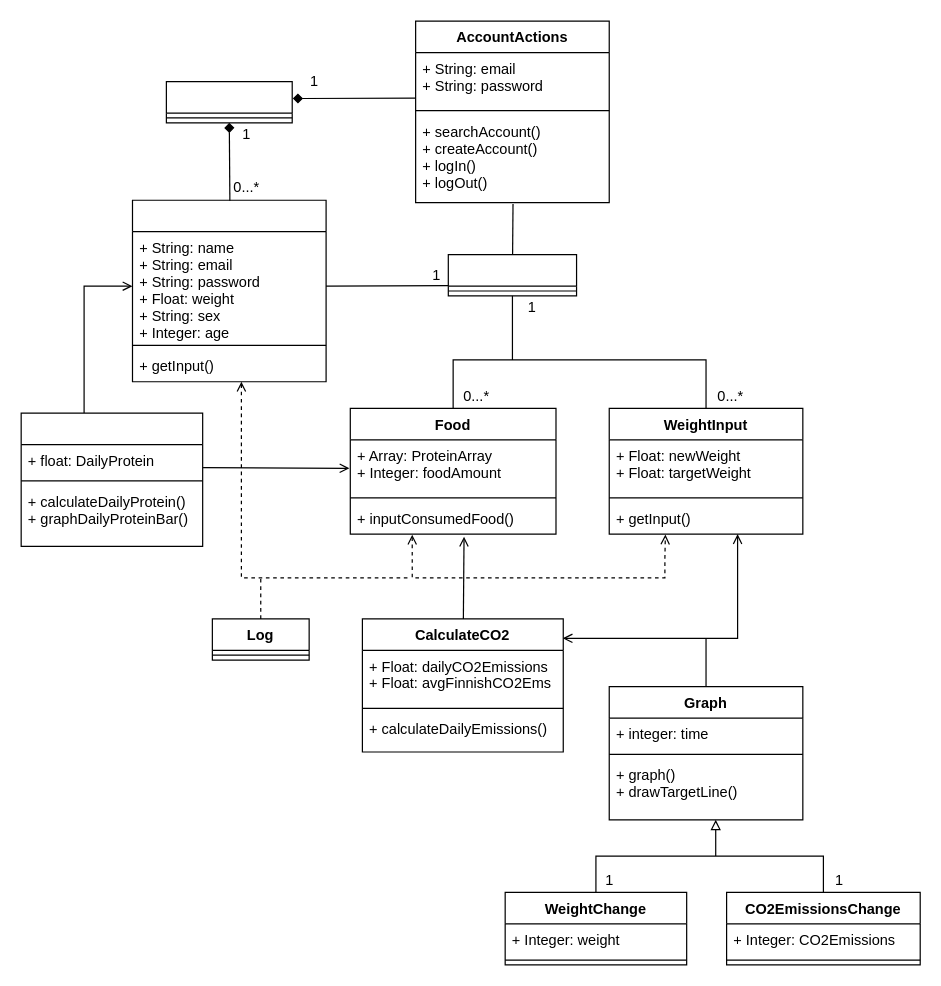
This 941x986 diagram has some shape labels left out. The box of each missing label's shape, as (x1, y1, x2, y2) in pixels:
App: (165, 80, 292, 123)
CalculateProtein: (20, 412, 203, 546)
User: (447, 253, 577, 296)
UserAccount: (131, 199, 326, 382)
